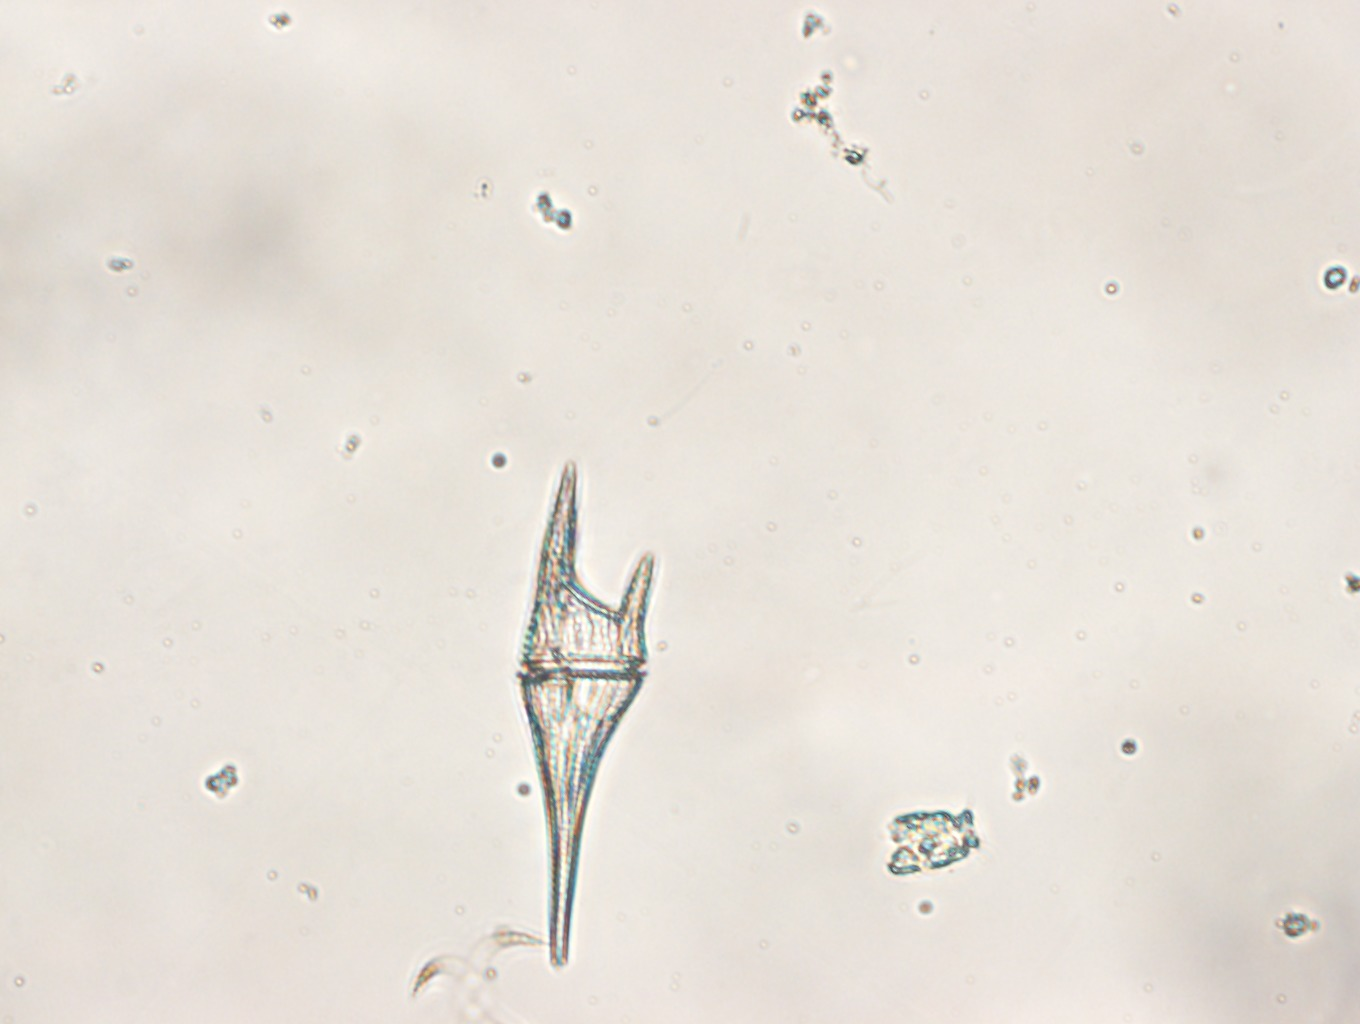ceratium furca: (519, 463, 657, 965)
